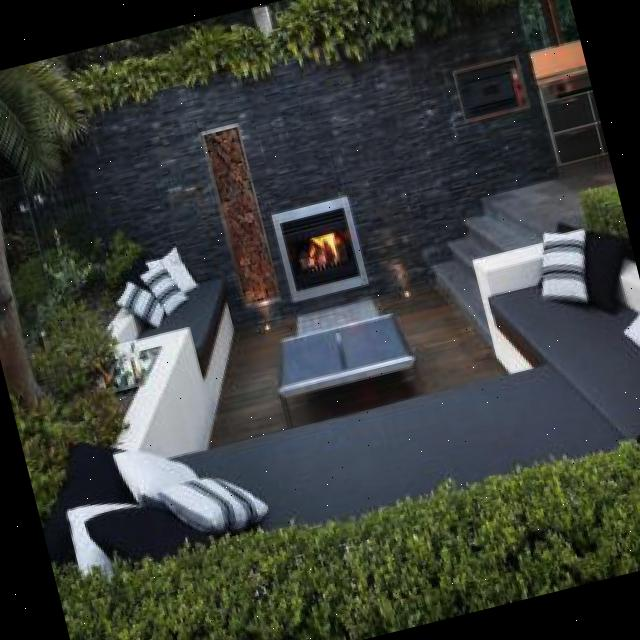fire: (298, 221, 348, 277)
